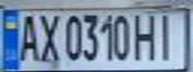0: (60, 11, 81, 62), (112, 11, 133, 61)
1: (96, 11, 115, 62)
3: (78, 11, 100, 62)
A: (15, 11, 42, 63)
H: (133, 10, 160, 61)
I: (151, 10, 181, 61)
X: (33, 10, 60, 63)
